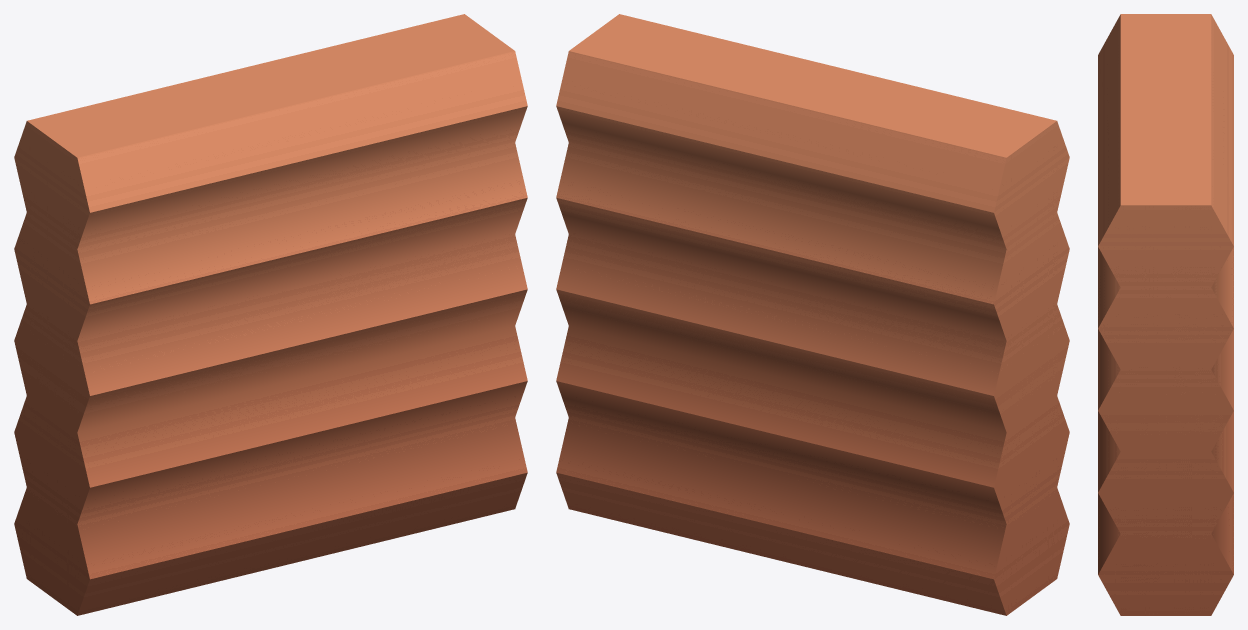
The model's file is cabin-wall.glb.
The picture shows the model from 3 angles, left to right: view 1: azimuth 30°, elevation 25°; view 2: azimuth 150°, elevation 25°; view 3: azimuth 270°, elevation 25°; orthographic projection. The views are drawn at different scales.
Parts seen in each view (by area): view 1: cabin-wall; view 2: cabin-wall; view 3: cabin-wall.
Part boxes in pixels (x1=…): cabin-wall: x1=14, y1=14, x2=527, y2=615; cabin-wall: x1=556, y1=14, x2=1069, y2=615; cabin-wall: x1=1098, y1=14, x2=1233, y2=615.
Size of the model in its own units: 1 by 1 by 0.3.
Materials: 1 (1 with a texture image).
